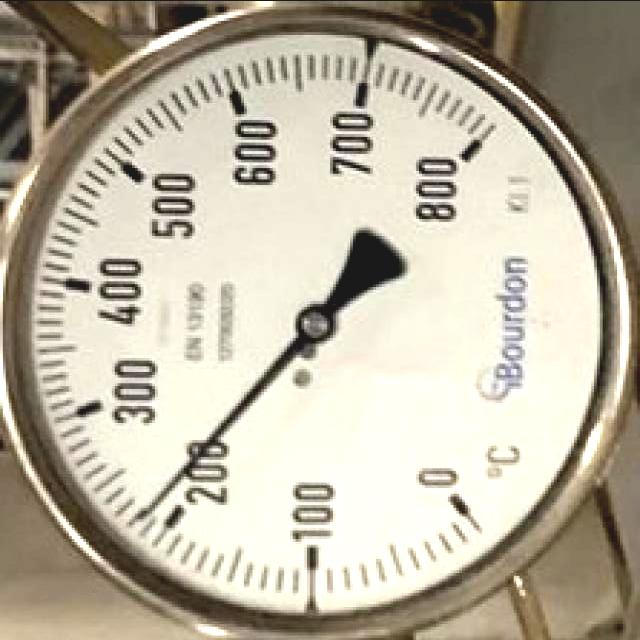Needle_Tip: (118, 469, 186, 540)
Needle_base: (286, 295, 349, 357)
max_value: (409, 145, 468, 237)
min_value: (403, 436, 473, 511)
